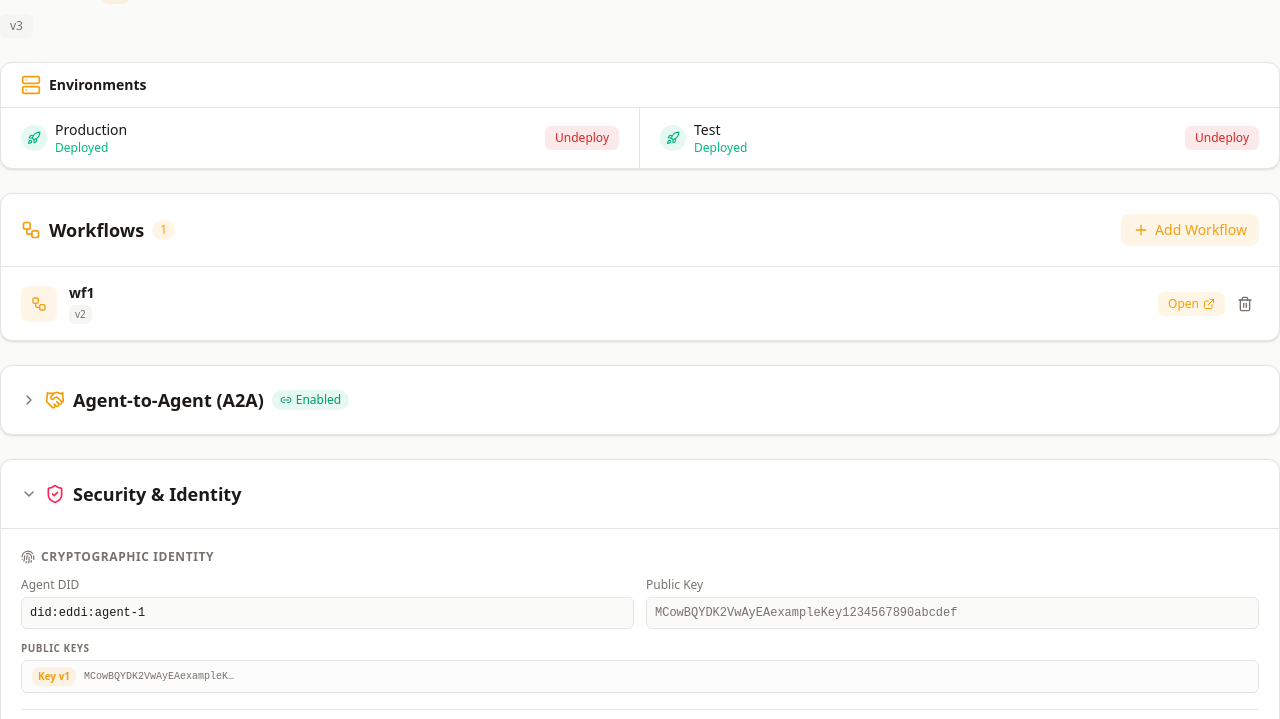
it: AgentDetailPage › shows Agent Card Preview toggle when A2A is enabled
The image size is (1280, 719).
Click the button "Agent-to-Agent (A2A) Enabled". click: click(168, 400)
box: [1, 366, 1279, 434]
(page scrolled)
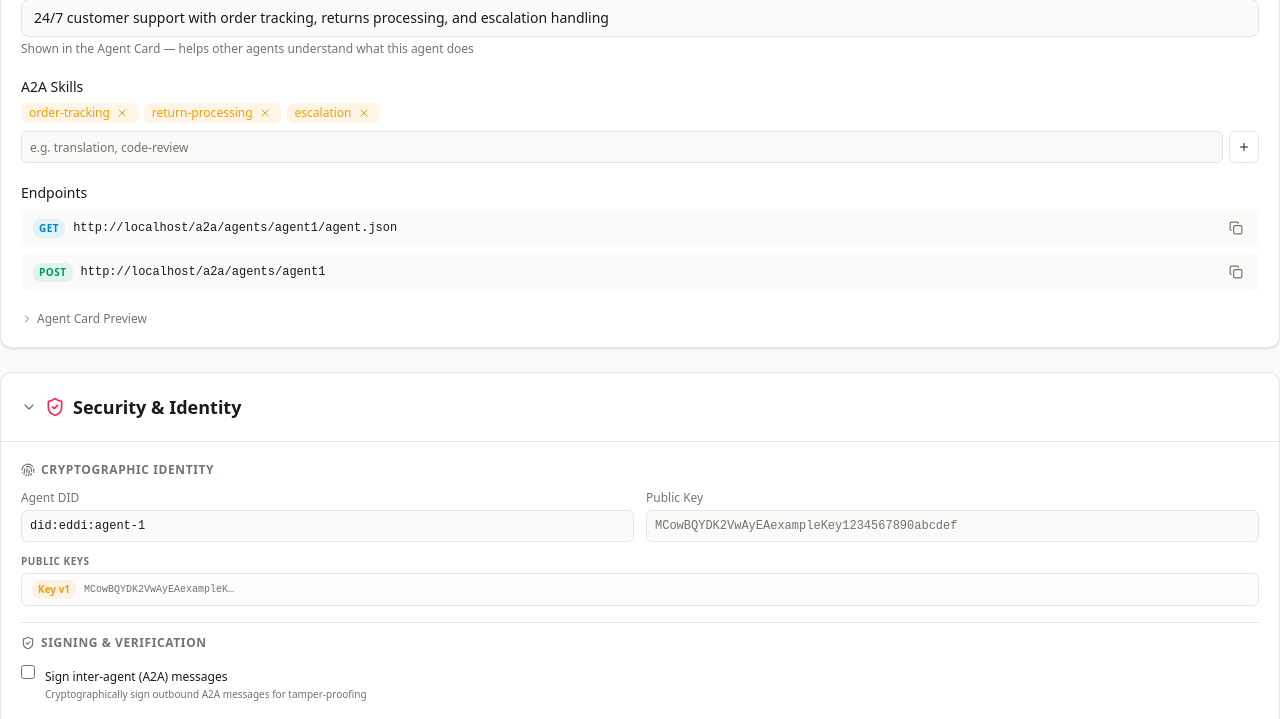
Result: the button with test id "a2a-card-toggle" is shown at [21, 311, 147, 327]
